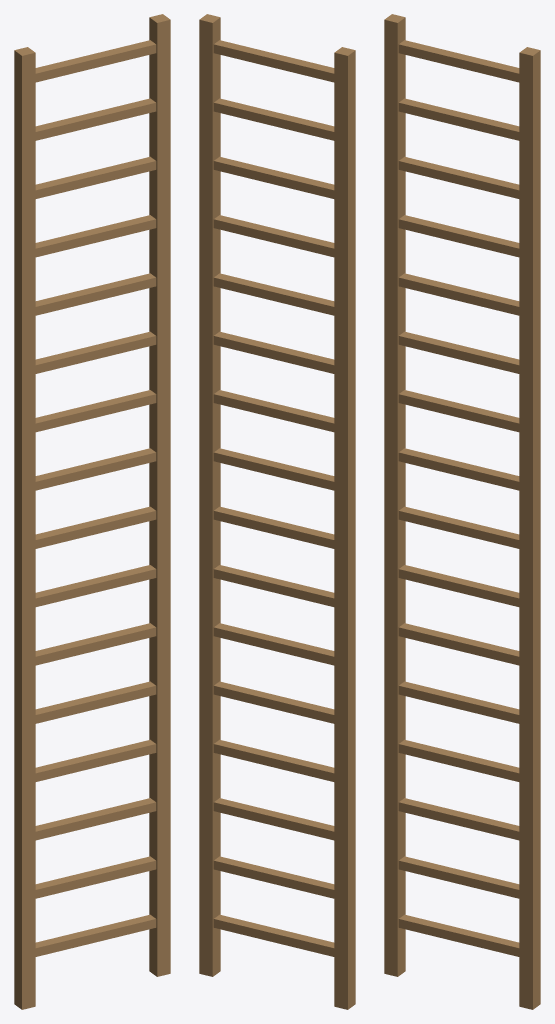
File: ladder_5m3.glb
3 renders of one model, left to right at view 1: azimuth 30°, elevation 25°; view 2: azimuth 150°, elevation 25°; view 3: azimuth 330°, elevation 25°, orthographic.
Parts seen in each view (by area): view 1: ladder; view 2: ladder; view 3: ladder.
Part boxes in pixels (left/top/right/bottom): ladder: left=14, top=14, right=170, bottom=1009; ladder: left=199, top=14, right=355, bottom=1009; ladder: left=384, top=14, right=540, bottom=1009.
Bounding box in the file's own units: 0.88 × 5.4 × 0.08.
